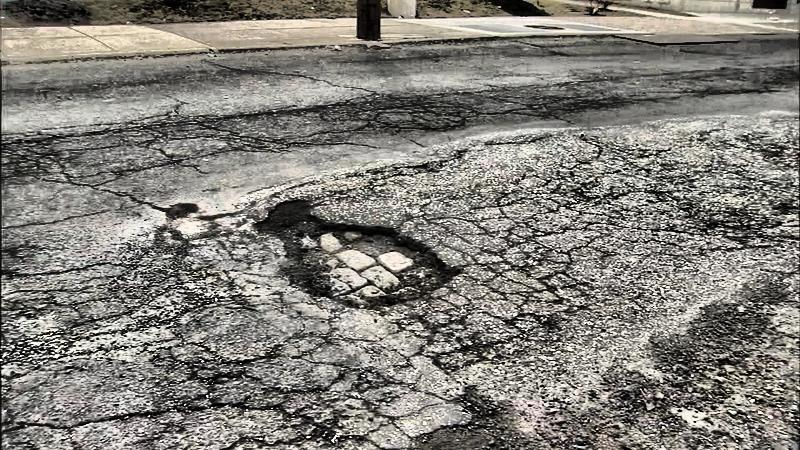pothole: (252, 196, 467, 313)
